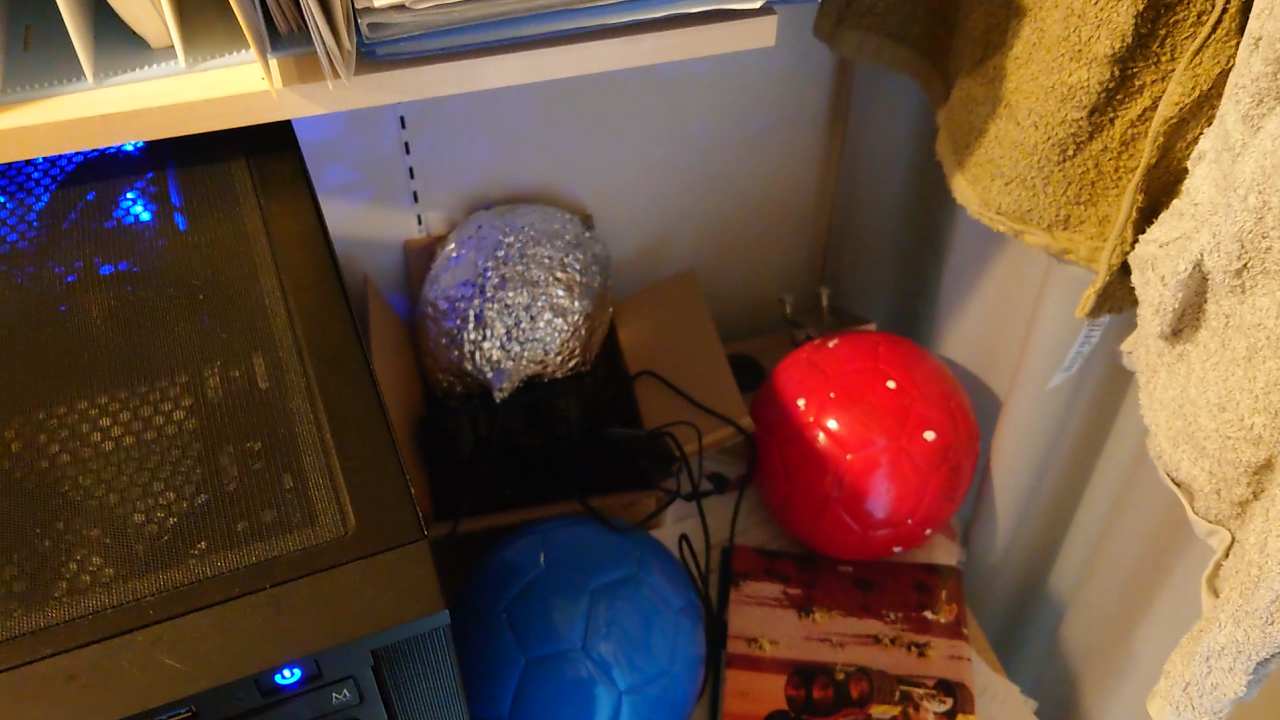blue: (458, 525, 696, 713)
red: (758, 333, 978, 561)
